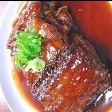hongshaodaiyu: (6, 0, 111, 112)
